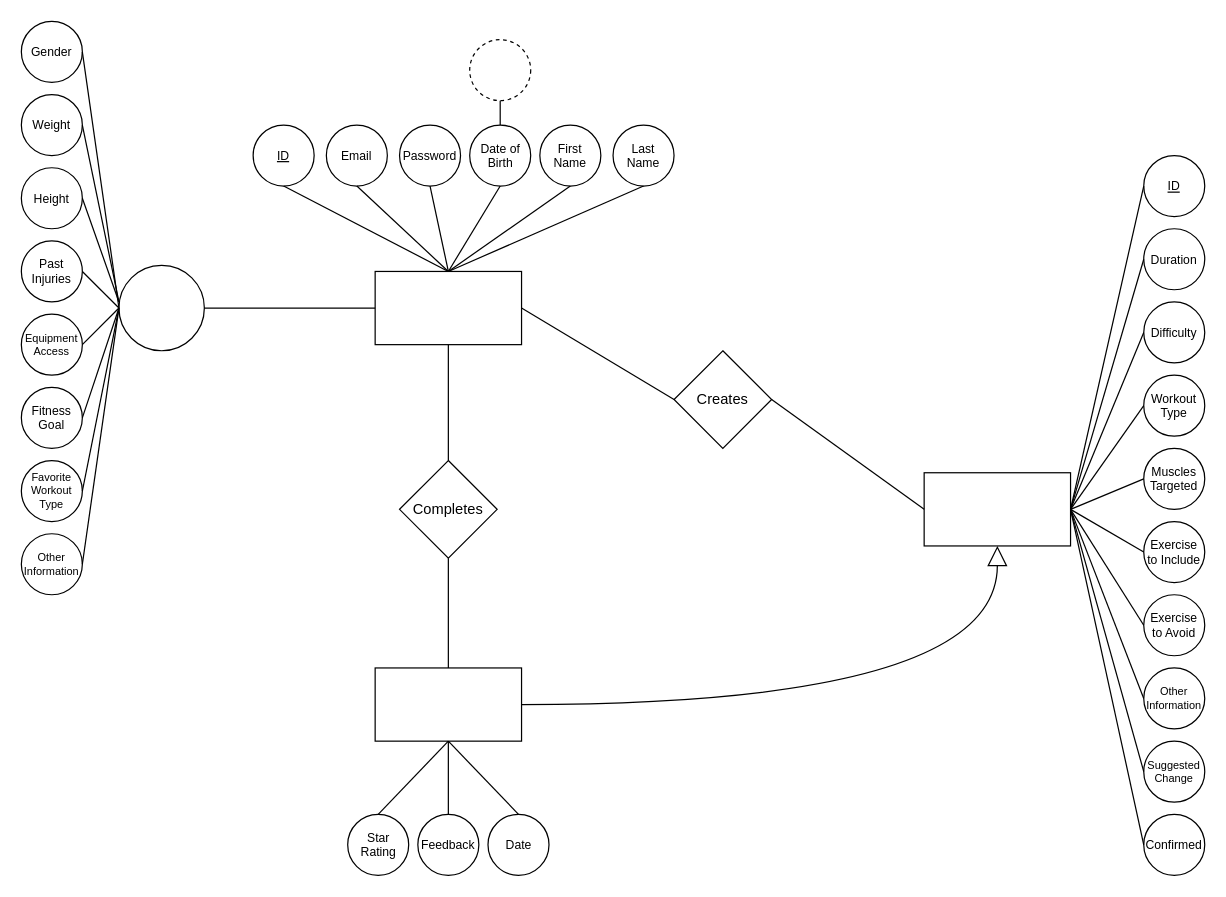
Some shapes in this 1226 by 897 pixel diagram are drawn without their labels. The box of each missing label's shape, as (x1, y1, x2, y2) in pixels:
Age: (468, 38, 531, 101)
Health Profile: (118, 264, 204, 351)
Past Workout: (374, 667, 522, 741)
User: (374, 270, 522, 345)
Workout: (923, 472, 1071, 546)
